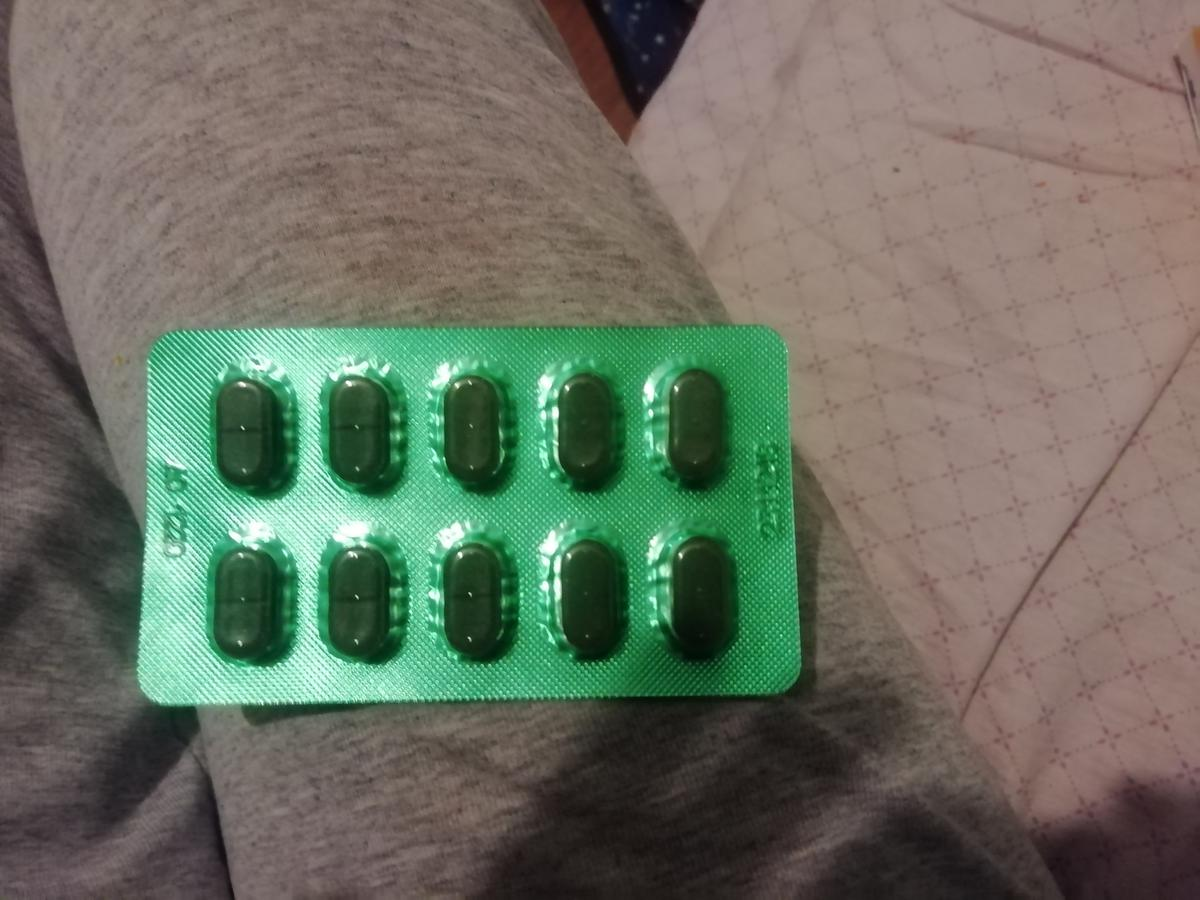tablet: (209, 373, 303, 502), (312, 370, 406, 499), (421, 366, 515, 495), (535, 368, 629, 497), (647, 363, 741, 492), (199, 539, 293, 668), (316, 534, 410, 663), (424, 531, 518, 660), (545, 532, 639, 661), (654, 530, 748, 659)
